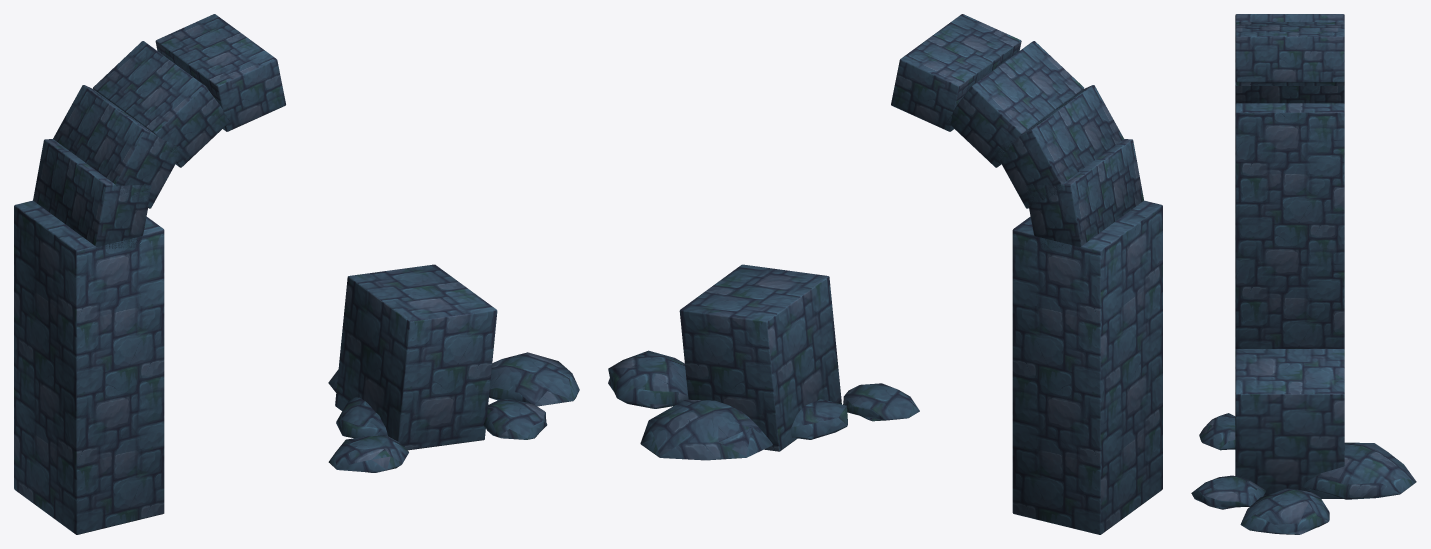
The model's file is collapsed_arch.gltf.
The picture shows the model from 3 angles, left to right: view 1: azimuth 30°, elevation 25°; view 2: azimuth 150°, elevation 25°; view 3: azimuth 270°, elevation 25°; orthographic projection. The views are drawn at different scales.
Parts seen in each view (by area): view 1: collapsed_arch; view 2: collapsed_arch; view 3: collapsed_arch.
Boxes of the visible parts, <box> form: collapsed_arch: <box>14,14,579,534</box>; collapsed_arch: <box>608,14,1162,534</box>; collapsed_arch: <box>1191,14,1416,534</box>.
Bounding box in the file's own units: 7.67 × 6.06 × 3.3.
Materials: 1 (1 with a texture image).
